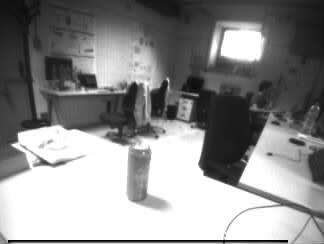Tin can: (127, 143, 149, 201)
